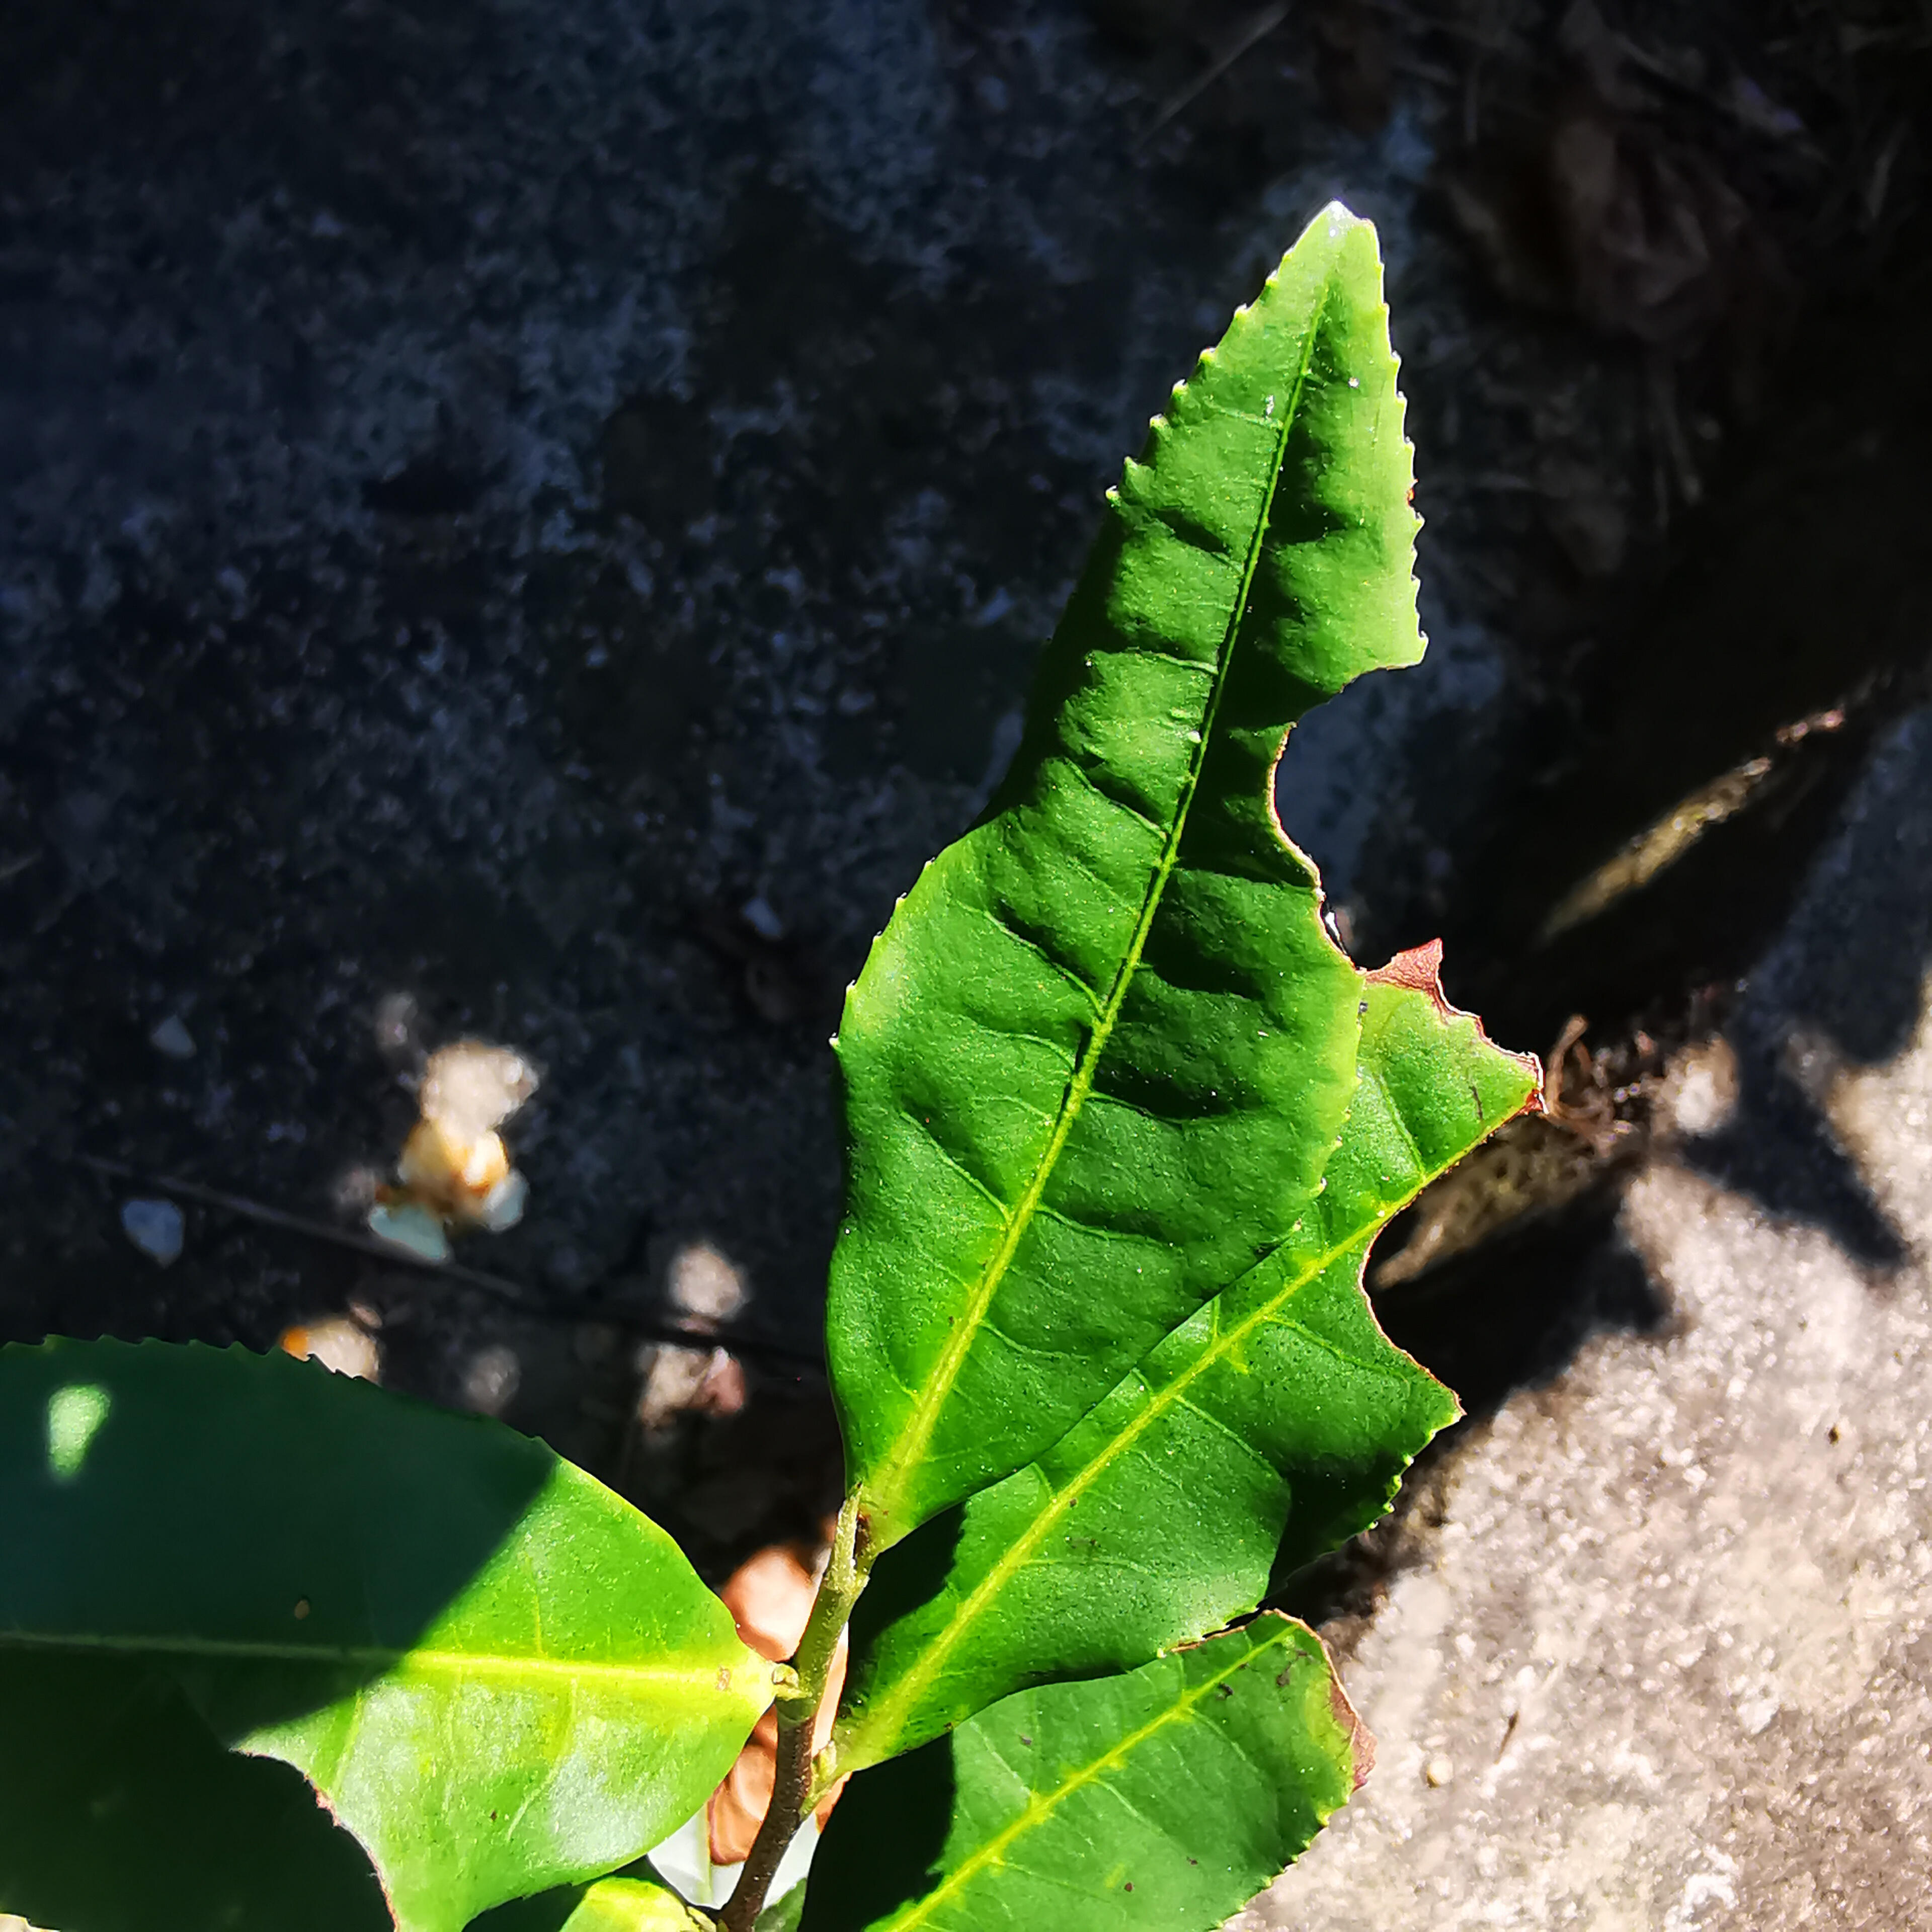chihuo_high: (819, 202, 1424, 1525), (833, 929, 1552, 1776), (842, 1612, 1375, 1932)
